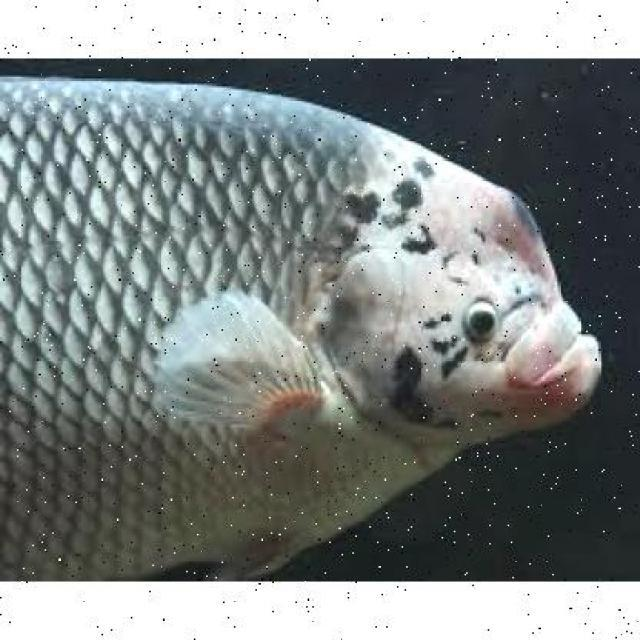gurame: (0, 76, 615, 578)
